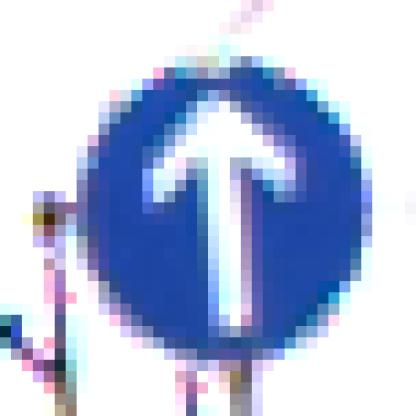AheadOnly: (67, 57, 362, 361)
